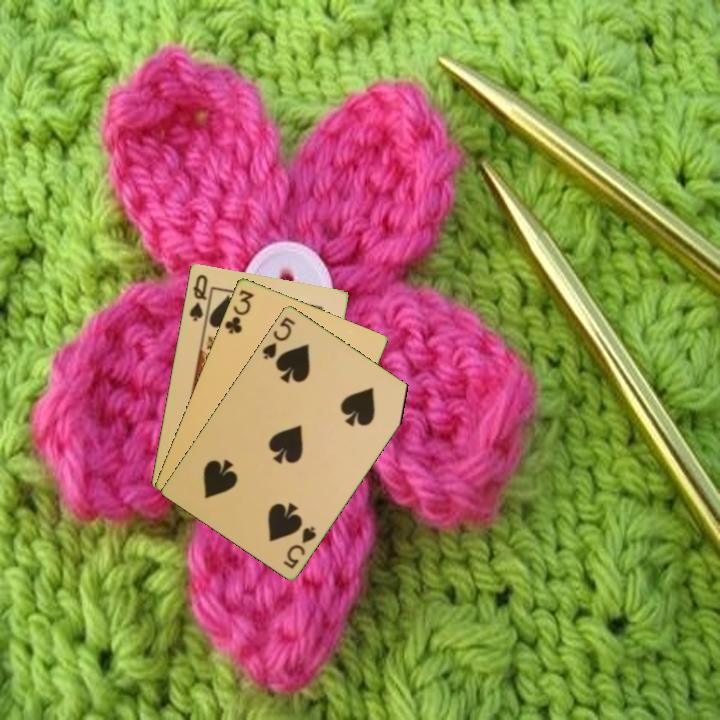3c: (221, 286, 256, 337)
5s: (258, 313, 298, 362), (279, 522, 319, 571)
Qs: (186, 270, 210, 324)
